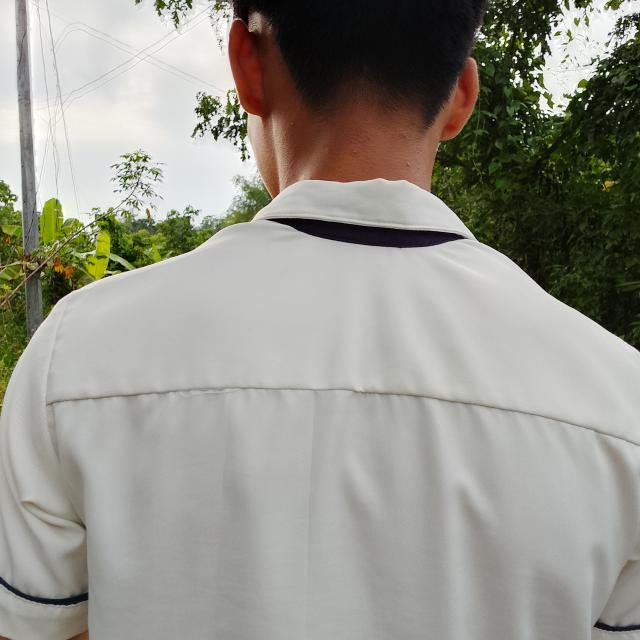education_male_uniform: (0, 148, 640, 640)
